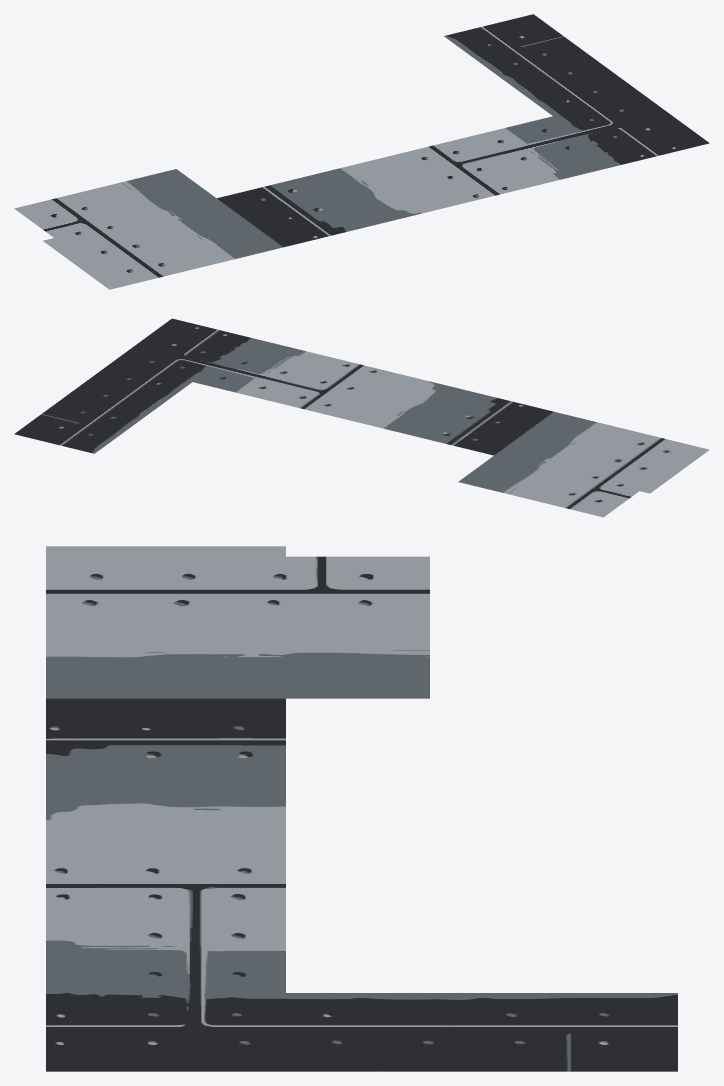
The model's file is 02beginceiling.fbx.
3 renders of one model, top to bottom at view 1: azimuth 30°, elevation 25°; view 2: azimuth 150°, elevation 25°; view 3: azimuth 270°, elevation 25°, orthographic. The views are drawn at different scales.
Parts seen in each view (by area): view 1: Stairs__1_.009; view 2: Stairs__1_.009; view 3: Stairs__1_.009.
Part boxes in pixels (x1,y1,x2,y2): Stairs__1_.009: (14, 14, 709, 289); Stairs__1_.009: (14, 318, 709, 517); Stairs__1_.009: (46, 546, 677, 1071).
Bounding box in the file's own units: 51.75 × 9.54e-06 × 26.34.
